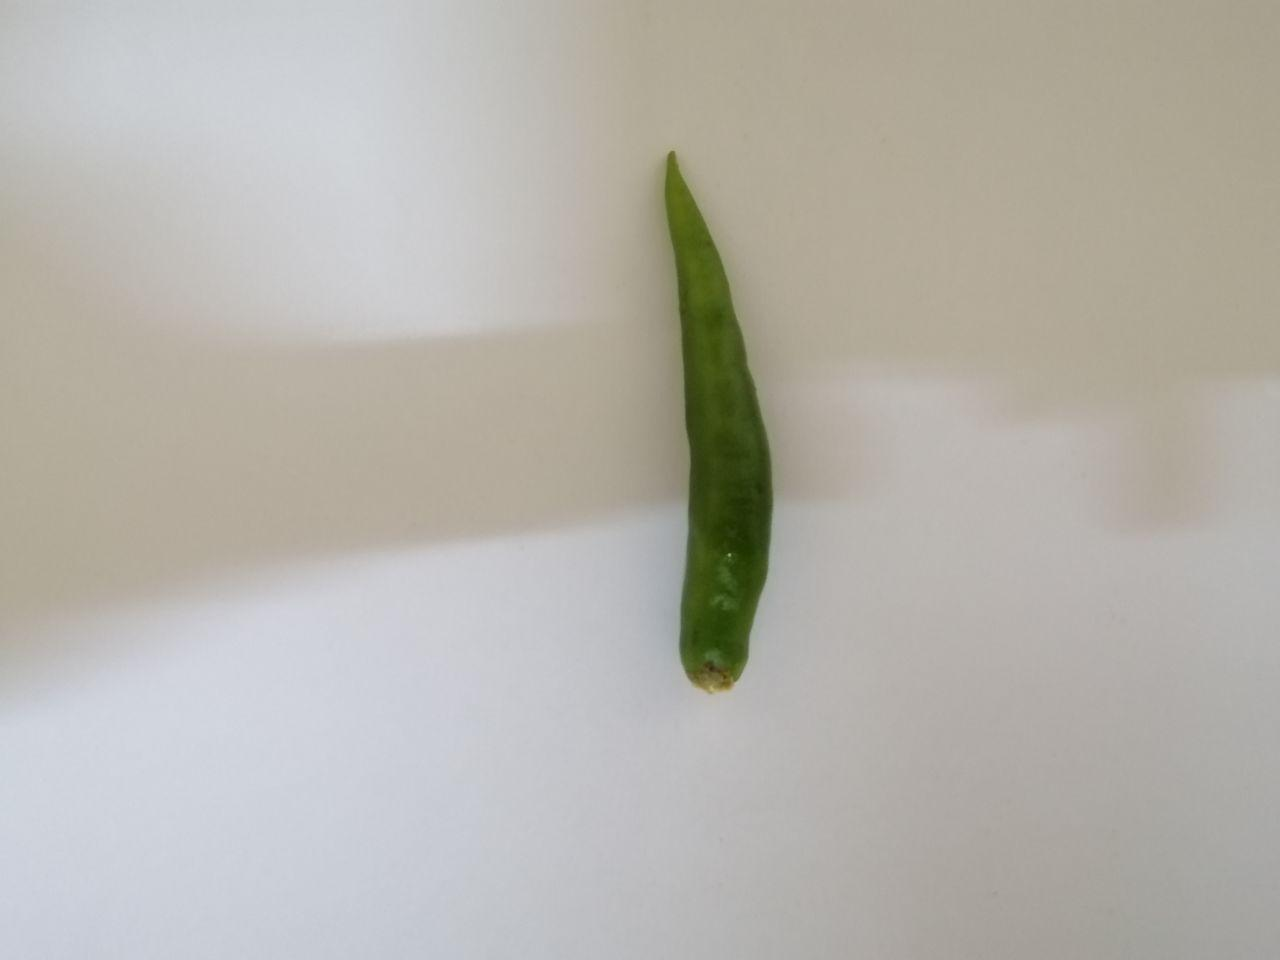lada hijau: (628, 122, 824, 744)
